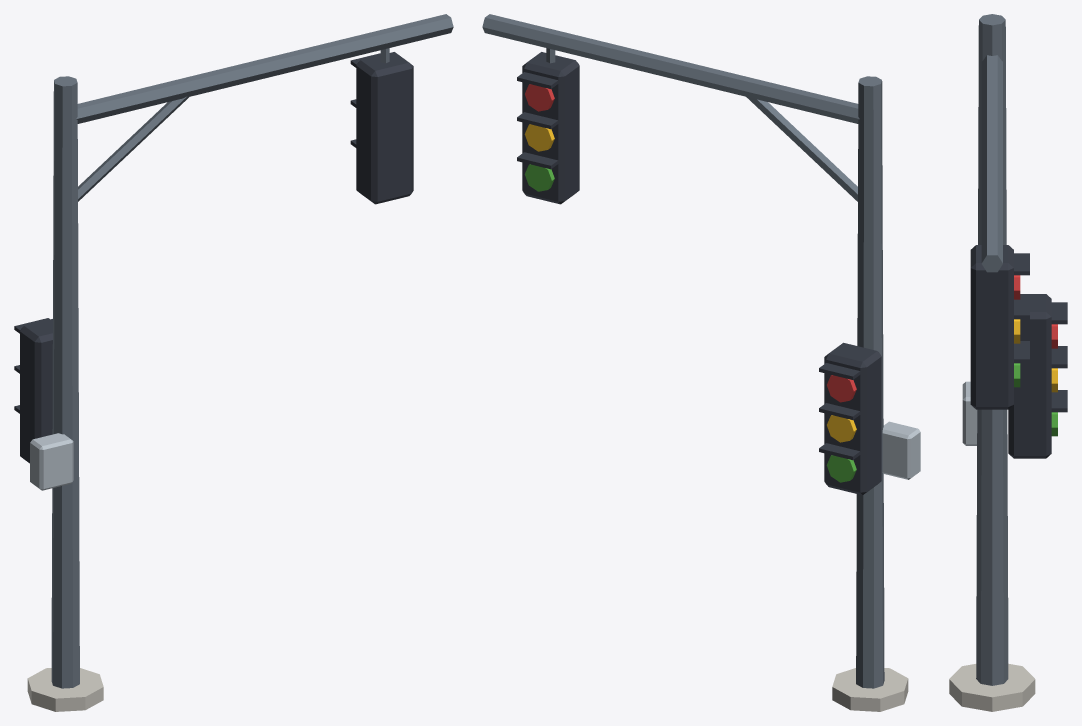
Rendered from mobiliario-semaforo.glb.
3 views of the same model, side by side, from view 1: azimuth 30°, elevation 25°; view 2: azimuth 150°, elevation 25°; view 3: azimuth 270°, elevation 25° (orthographic). The views are drawn at different scales.
Visible parts, largest first — view 1: corpo; view 2: corpo; view 3: corpo.
Part boxes in pixels (bbox=[...]): corpo: bbox=[14, 14, 453, 711]; corpo: bbox=[482, 14, 920, 711]; corpo: bbox=[949, 14, 1067, 711].
Bounding box in the file's own units: 0.99 × 1.38 × 0.22.
